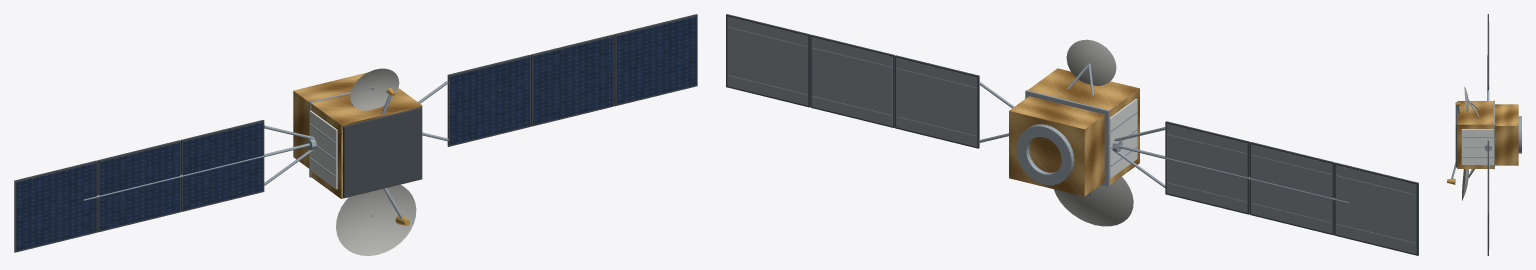
File: ref-ecs-14128.glb
3 views of the same model, side by side, from view 1: azimuth 30°, elevation 25°; view 2: azimuth 150°, elevation 25°; view 3: azimuth 270°, elevation 25° (orthographic). The views are drawn at different scales.
Parts seen in each view (by area): view 1: Solar cell panel (×6), Earth-facing deck, Communications reflector (×2), Solar panel frame (×6), Payload module, Service module, Radiator face, Outboard boom; view 2: Rear array substrate (×6), Service module, Solar panel frame (×6), Communications reflector (×2), Payload module, Launch adapter ring, Radiator face, Module interface, Outboard boom; view 3: Service module, Payload module, Radiator face, Communications reflector (×2), Solar panel frame (×2), Earth-facing deck, Launch adapter ring, Module interface.
Boxes of the visible parts, x1,y1,x2,y2 form: Solar cell panel (×6): (16, 16, 696, 250); Earth-facing deck: (343, 107, 422, 198); Communications reflector (×2): (336, 68, 416, 255); Solar panel frame (×6): (14, 14, 697, 252); Payload module: (311, 88, 422, 198); Service module: (293, 72, 367, 168); Radiator face: (309, 110, 337, 189); Outboard boom: (83, 143, 309, 200); Rear array substrate (×6): (727, 16, 1416, 254); Service module: (1009, 96, 1104, 196); Solar panel frame (×6): (726, 14, 1418, 255); Communications reflector (×2): (1054, 39, 1133, 226); Payload module: (1028, 68, 1139, 184); Launch adapter ring: (1016, 124, 1074, 185); Radiator face: (1109, 98, 1137, 178); Module interface: (1025, 90, 1109, 186); Outboard boom: (1119, 145, 1348, 203); Service module: (1495, 104, 1518, 165); Payload module: (1457, 101, 1493, 168); Radiator face: (1461, 129, 1493, 164); Communications reflector (×2): (1462, 86, 1468, 200); Solar panel frame (×2): (1487, 62, 1488, 255); Earth-facing deck: (1455, 102, 1457, 167); Launch adapter ring: (1518, 116, 1521, 153); Module interface: (1493, 100, 1494, 169).
Bounding box in the file's own units: 15.98 × 4.11 × 2.54.
8 materials, 2 textured.
